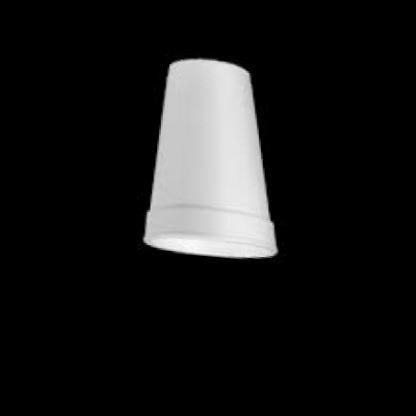trash: (144, 59, 276, 257)
